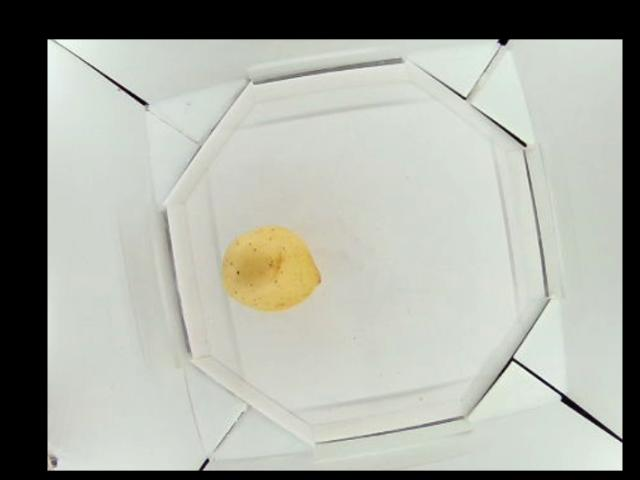Potato: (216, 223, 324, 311)
